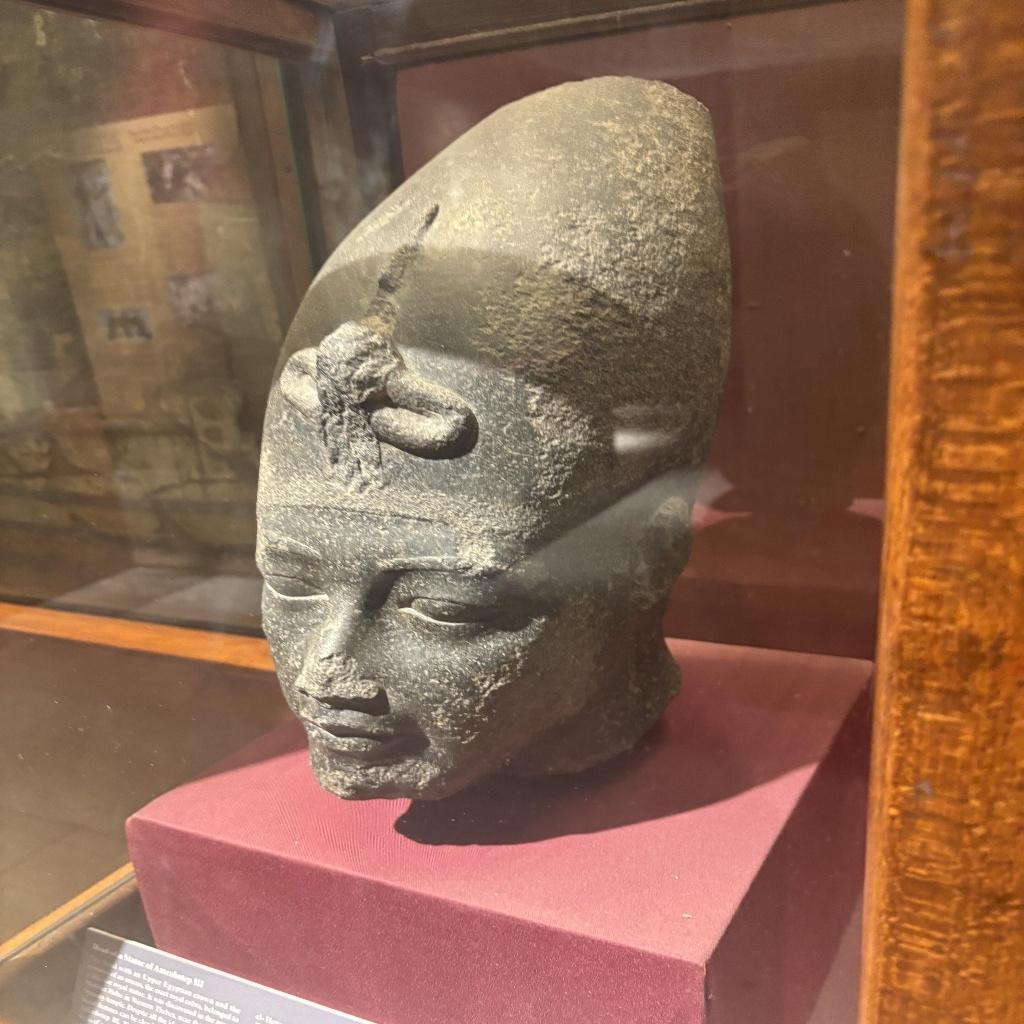Head Statue of Amenhotep III: (254, 88, 752, 810)
